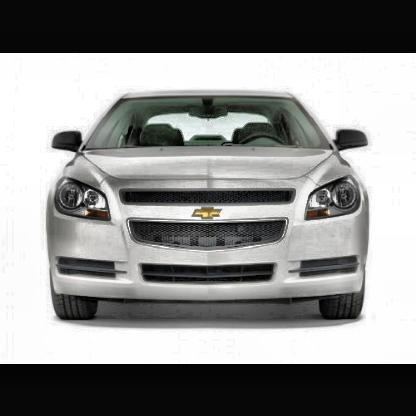Chevrolet Malibu Hybrid Sedan 2010: (49, 89, 372, 321)
